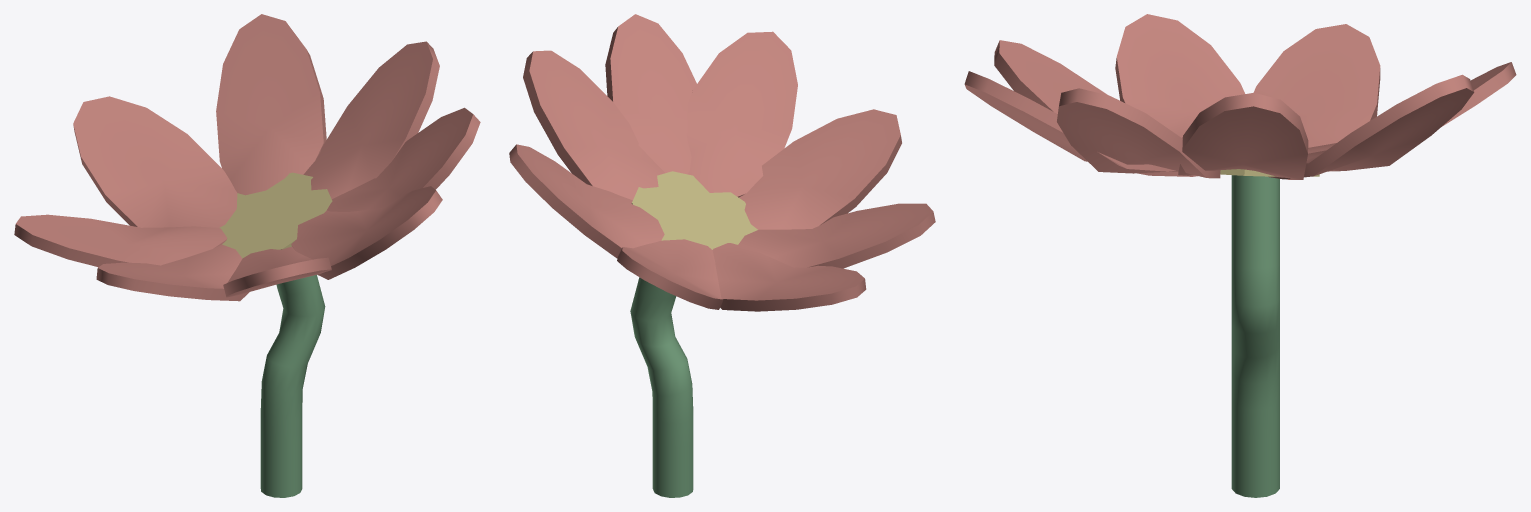
File: bloemetje kleur 2.fbx
The picture shows the model from 3 angles, left to right: view 1: azimuth 30°, elevation 25°; view 2: azimuth 150°, elevation 25°; view 3: azimuth 270°, elevation 25°; orthographic projection. The views are drawn at different scales.
Visible parts, largest first — view 1: pCylinder10, pCylinder9, pCylinder3, pCylinder1, pCylinder8, pCylinder5, pCylinder4, pCylinder2, pCylinder7, pCylinder6; view 2: pCylinder5, pCylinder6, pCylinder3, pCylinder4, pCylinder1, pCylinder7, pCylinder8, pCylinder10, pCylinder2, pCylinder9; view 3: pCylinder1, pCylinder8, pCylinder7, pCylinder3, pCylinder4, pCylinder10, pCylinder6, pCylinder5, pCylinder9.
Part boxes in pixels (left/top/right/bottom): pCylinder10: left=216, top=14, right=326, bottom=195; pCylinder9: left=73, top=96, right=237, bottom=227; pCylinder3: left=303, top=41, right=439, bottom=198; pCylinder1: left=260, top=275, right=325, bottom=497; pCylinder8: left=14, top=214, right=227, bottom=267; pCylinder5: left=291, top=186, right=442, bottom=279; pCylinder4: left=327, top=107, right=480, bottom=211; pCylinder2: left=219, top=172, right=332, bottom=258; pCylinder7: left=96, top=244, right=249, bottom=301; pCylinder6: left=223, top=246, right=331, bottom=297; pCylinder5: left=686, top=31, right=797, bottom=197; pCylinder6: left=739, top=109, right=901, bottom=229; pCylinder3: left=523, top=50, right=665, bottom=200; pCylinder4: left=605, top=14, right=696, bottom=174; pCylinder1: left=630, top=277, right=693, bottom=497; pCylinder7: left=738, top=203, right=935, bottom=268; pCylinder8: left=712, top=243, right=866, bottom=311; pCylinder10: left=509, top=144, right=664, bottom=258; pCylinder2: left=631, top=171, right=757, bottom=249; pCylinder9: left=617, top=239, right=723, bottom=309; pCylinder1: left=1231, top=175, right=1279, bottom=497; pCylinder8: left=1253, top=24, right=1380, bottom=147; pCylinder7: left=1115, top=14, right=1244, bottom=138; pCylinder3: left=1178, top=92, right=1308, bottom=179; pCylinder4: left=1057, top=88, right=1220, bottom=178; pCylinder10: left=1268, top=74, right=1474, bottom=179; pCylinder6: left=994, top=40, right=1197, bottom=176; pCylinder5: left=964, top=71, right=1175, bottom=171; pCylinder9: left=1308, top=62, right=1516, bottom=171.
Bounding box in the file's own units: 2.52 × 2.63 × 2.76.
